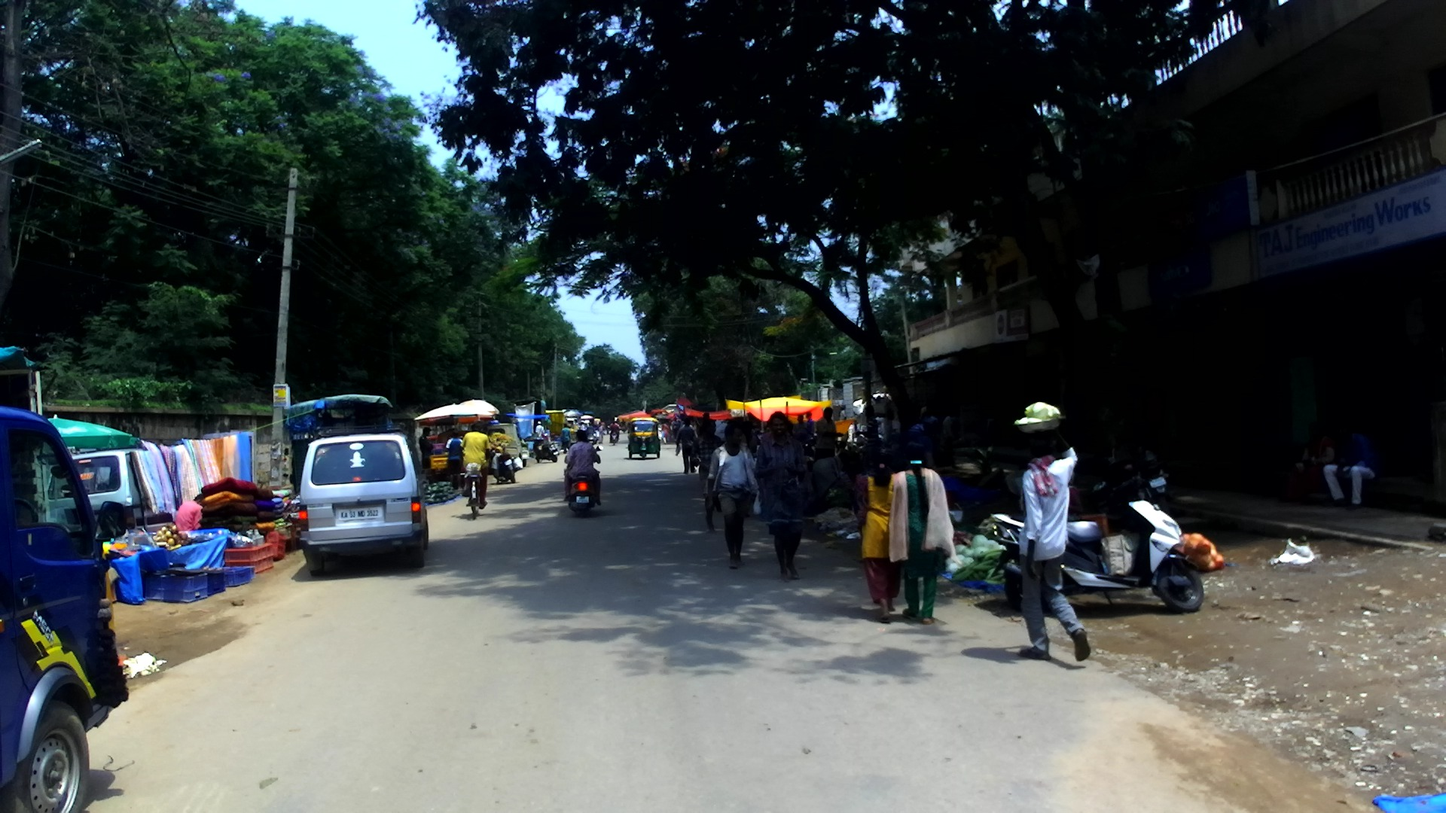autorickshaw: (429, 429, 479, 486), (627, 418, 660, 458)
bicycle: (462, 463, 482, 520)
car: (298, 424, 430, 578), (66, 446, 153, 541)
motorcycle: (992, 449, 1203, 615), (1084, 409, 1152, 525), (1115, 419, 1171, 528), (1063, 446, 1117, 527), (564, 446, 604, 519), (954, 443, 996, 478), (489, 446, 520, 485), (796, 435, 822, 469), (532, 435, 560, 463), (608, 427, 620, 446), (586, 431, 596, 445), (620, 425, 627, 434)
person: (1012, 400, 1091, 662), (889, 441, 953, 624), (755, 410, 809, 583), (851, 449, 905, 622), (708, 420, 758, 571), (1323, 418, 1378, 507), (1289, 418, 1337, 507), (689, 418, 725, 534), (811, 454, 848, 504), (853, 405, 880, 470), (815, 406, 844, 462), (941, 406, 963, 470), (173, 492, 206, 534), (676, 419, 698, 474), (1060, 469, 1081, 522), (446, 429, 464, 489), (941, 410, 958, 467), (921, 401, 938, 458), (923, 410, 941, 462), (906, 420, 932, 455), (419, 427, 435, 480), (740, 419, 758, 463), (908, 422, 924, 467), (727, 416, 744, 446), (679, 413, 697, 440), (918, 399, 933, 425), (560, 423, 572, 454), (796, 413, 807, 445), (921, 400, 935, 425), (804, 411, 815, 438), (670, 417, 681, 441), (661, 420, 671, 446), (535, 421, 545, 439), (854, 431, 865, 447), (596, 422, 604, 444), (745, 413, 756, 428), (593, 424, 599, 444), (579, 422, 586, 434), (589, 419, 595, 432), (703, 412, 710, 422)
rider: (563, 430, 602, 506), (460, 420, 491, 510), (569, 429, 591, 478), (610, 421, 620, 440), (586, 422, 594, 440), (620, 419, 626, 428)
truck: (1, 406, 131, 813), (283, 393, 393, 502), (1, 346, 44, 433), (478, 422, 523, 470)
vehicle fallback: (520, 438, 530, 467), (606, 424, 618, 434)
